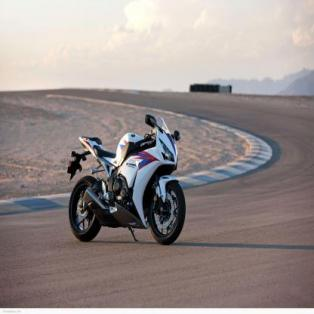Motocicleta: (64, 110, 186, 252)
